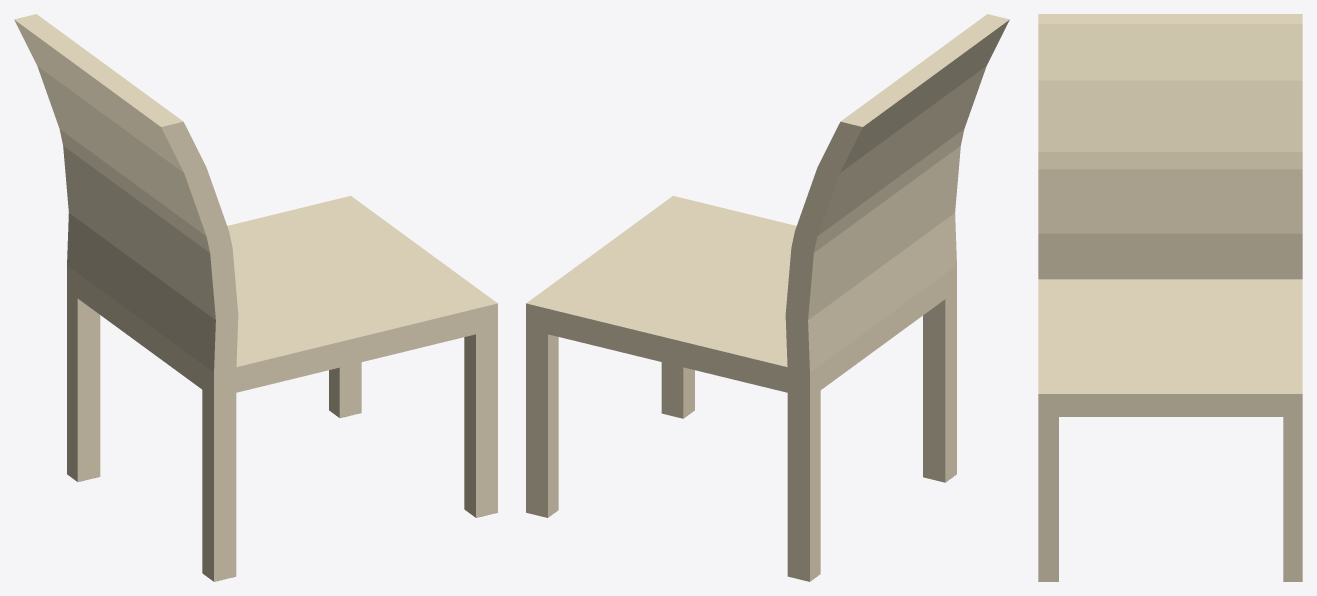
File: chair.glb
The picture shows the model from 3 angles, left to right: view 1: azimuth 30°, elevation 25°; view 2: azimuth 150°, elevation 25°; view 3: azimuth 270°, elevation 25°; orthographic projection. The views are drawn at different scales.
Visible parts, largest first — view 1: Chair; view 2: Chair; view 3: Chair.
Part boxes in pixels (bbox=[...]): Chair: bbox=[14, 14, 497, 581]; Chair: bbox=[526, 14, 1009, 581]; Chair: bbox=[1038, 14, 1302, 581].
Size of the model in its own units: 2.1 by 2.8 by 1.59.
